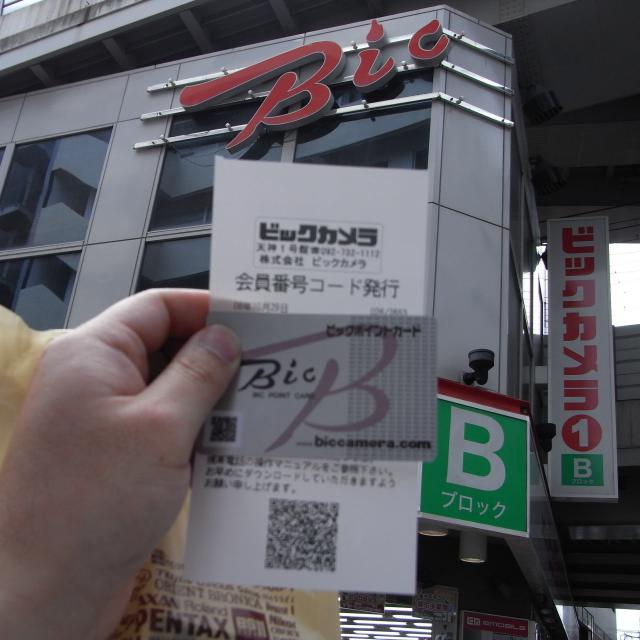qrcode: (266, 500, 339, 572)
